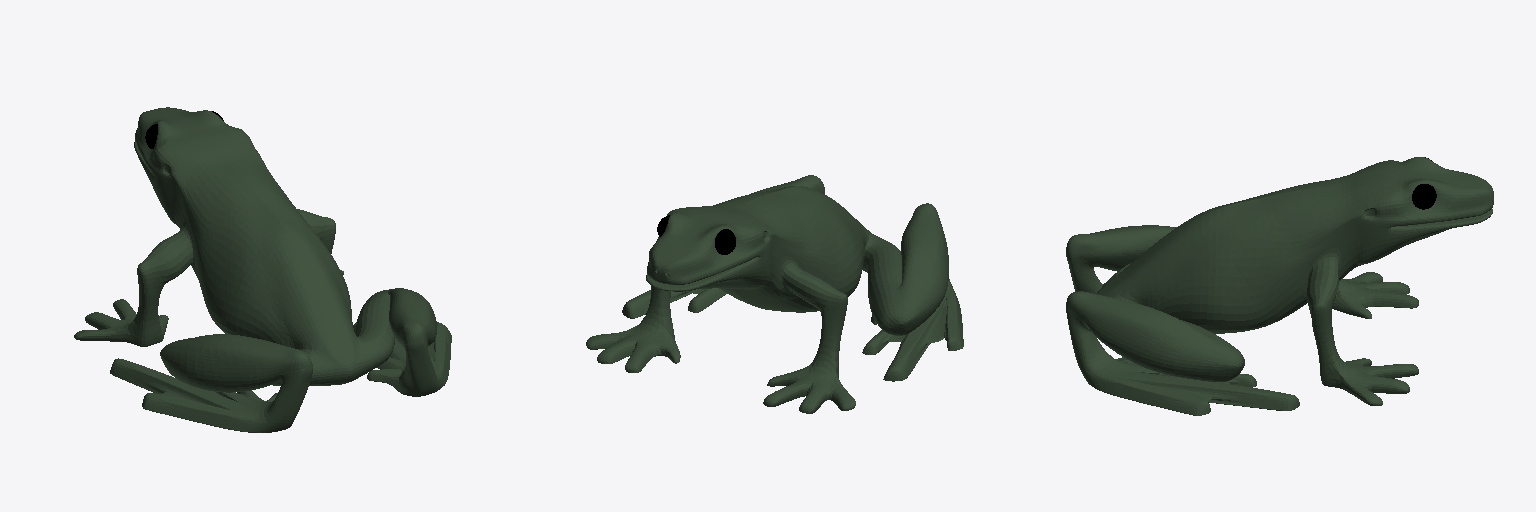
File: frog.obj
The picture shows the model from 3 angles: view 1: azimuth 30°, elevation 25°; view 2: azimuth 150°, elevation 25°; view 3: azimuth 270°, elevation 25°; orthographic projection.
Visible parts, largest first — view 1: Cube_Cube.001; view 2: Cube_Cube.001, Sphere; view 3: Cube_Cube.001.
Boxes of the visible parts, x1,y1,x2,y2 form: Cube_Cube.001: [74, 107, 451, 432]; Cube_Cube.001: [586, 175, 963, 413]; Sphere: [657, 215, 735, 254]; Cube_Cube.001: [1066, 157, 1493, 415].
Size of the model in its own units: 10.34 by 5.58 by 12.48.